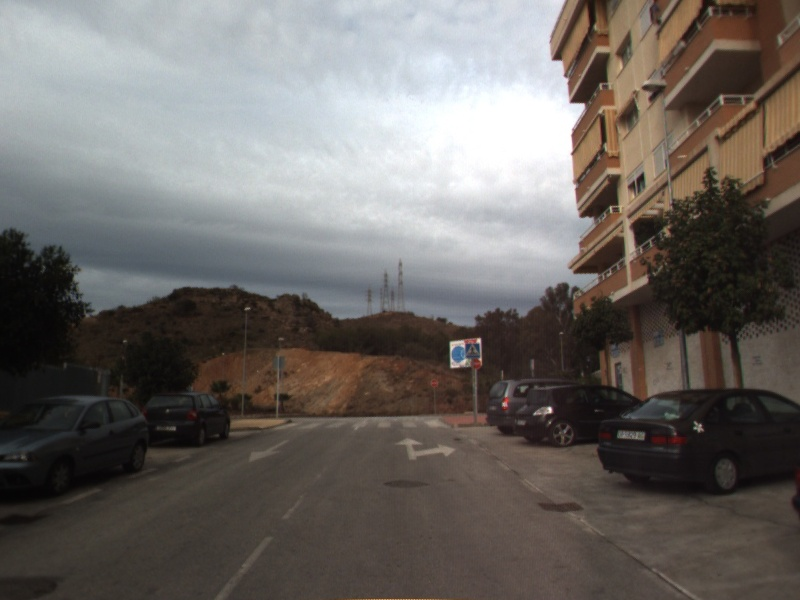STRAIGHT_RIGHT: (393, 435, 459, 462)
